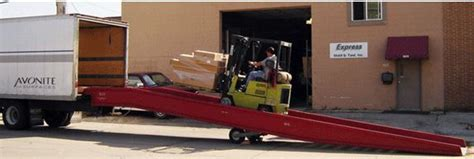Pallet Jack: (181, 33, 293, 116)
Yard Ramp: (82, 85, 468, 156)
